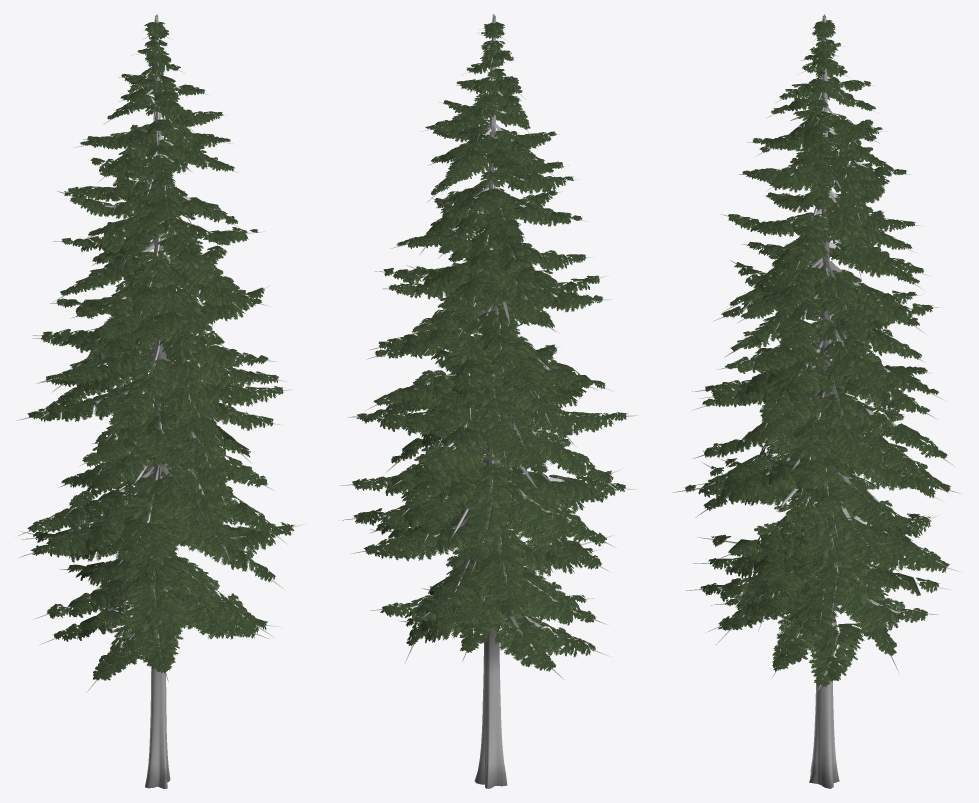
File: Hemlock_Tall_mdl.fbx
3 renders of one model, left to right at view 1: azimuth 30°, elevation 25°; view 2: azimuth 150°, elevation 25°; view 3: azimuth 270°, elevation 25°, orthographic.
Parts seen in each view (by area): view 1: Hemlock_Tall_LOD0; view 2: Hemlock_Tall_LOD0; view 3: Hemlock_Tall_LOD0.
Part boxes in pixels (x1,y1,x2,y2): Hemlock_Tall_LOD0: (17,14,306,788); Hemlock_Tall_LOD0: (339,14,637,788); Hemlock_Tall_LOD0: (673,14,961,788).
Size of the model in its own units: 718 by 2022 by 703.
